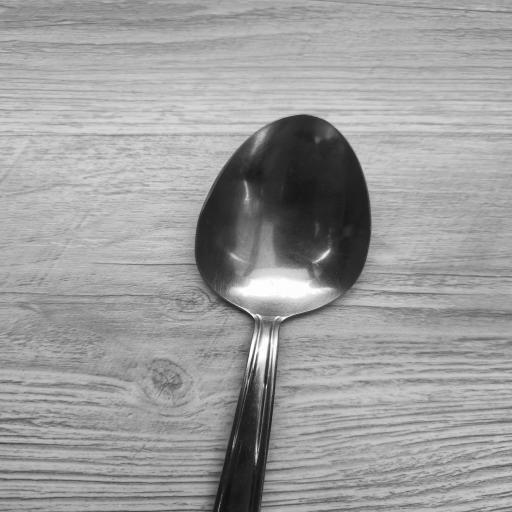spoon: (204, 113, 373, 512)
